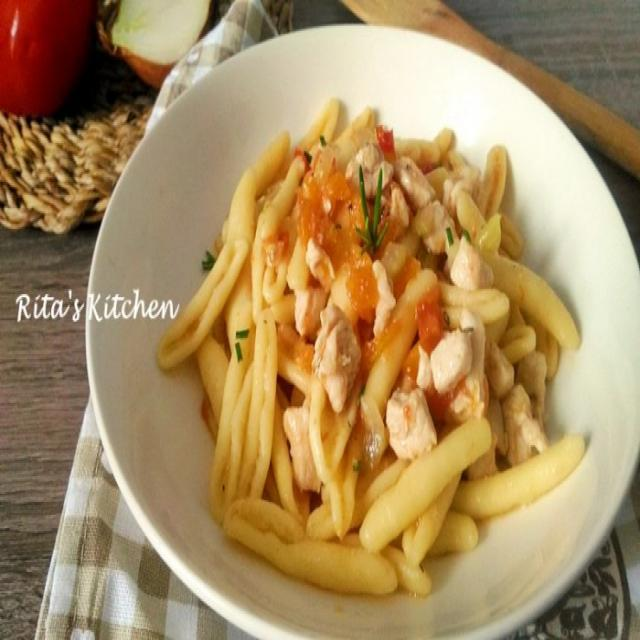Pasta al ragu: (168, 70, 586, 610)
